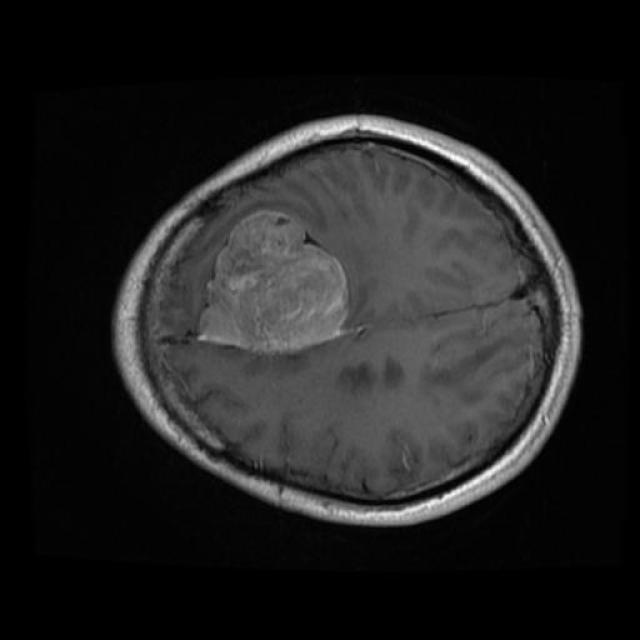Meningioma: (198, 210, 348, 353)
